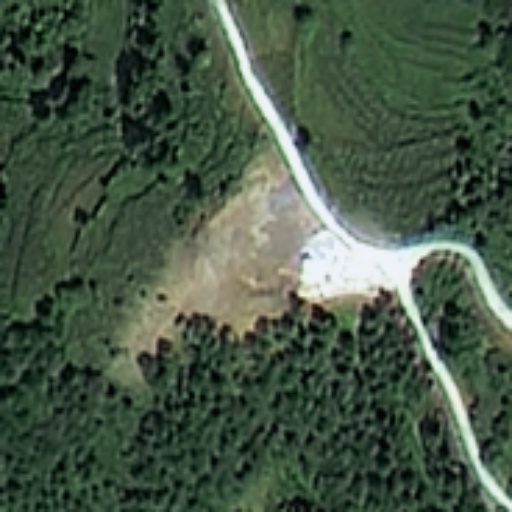landslide: (157, 150, 316, 339)
